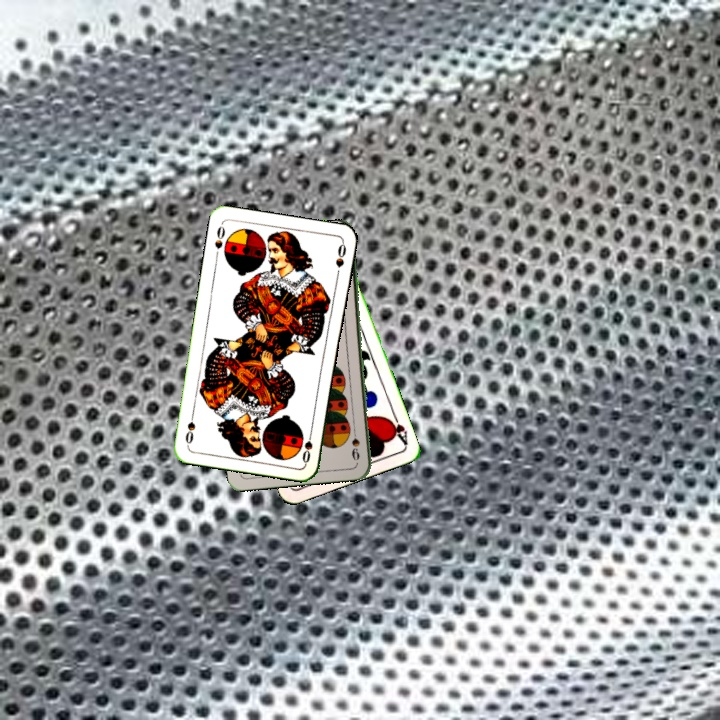HA: (384, 408, 410, 448)
S9: (348, 423, 362, 463)
SO: (298, 425, 315, 466), (211, 222, 227, 252)
